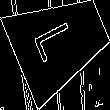L_NE: (34, 18, 86, 67)
